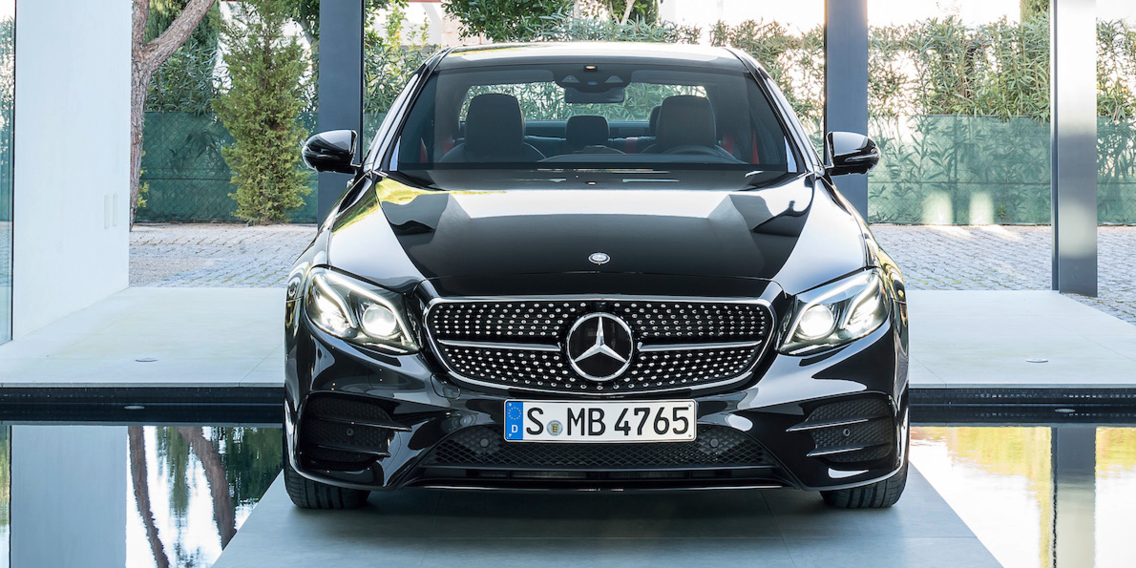number_plate: (501, 393, 700, 445)
